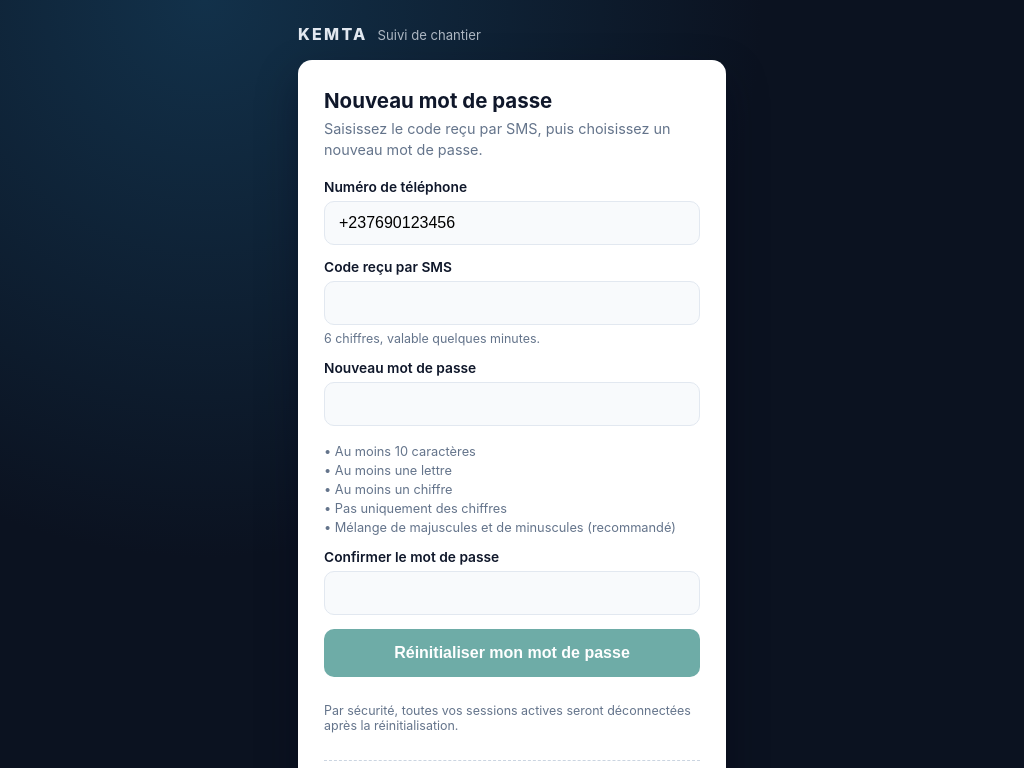
Test case: ResetPasswordPage › envoie le code, le numéro et le nouveau mot de passe au backend
Type "123456" into the field labelled "Code reçu par SMS" at coordinates (512, 303), box x1=324 y1=281 x2=700 y2=325
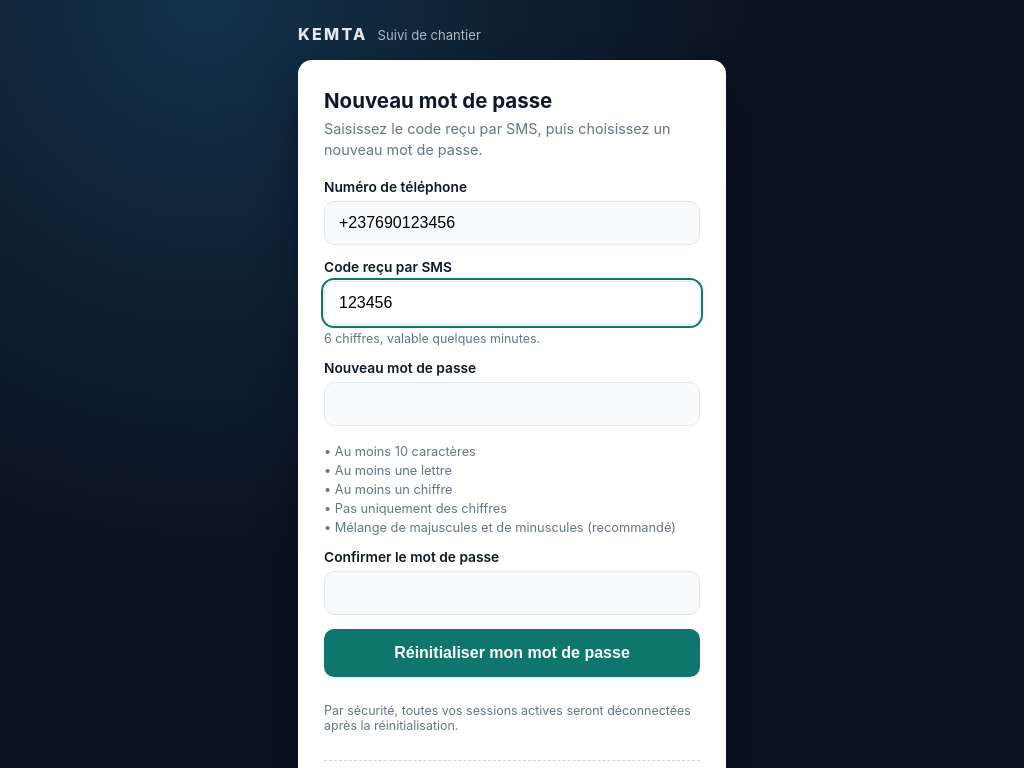
Type "Kemta#2026Douala" into the password field labelled "Nouveau mot de passe" at coordinates (512, 404), box x1=324 y1=382 x2=700 y2=426
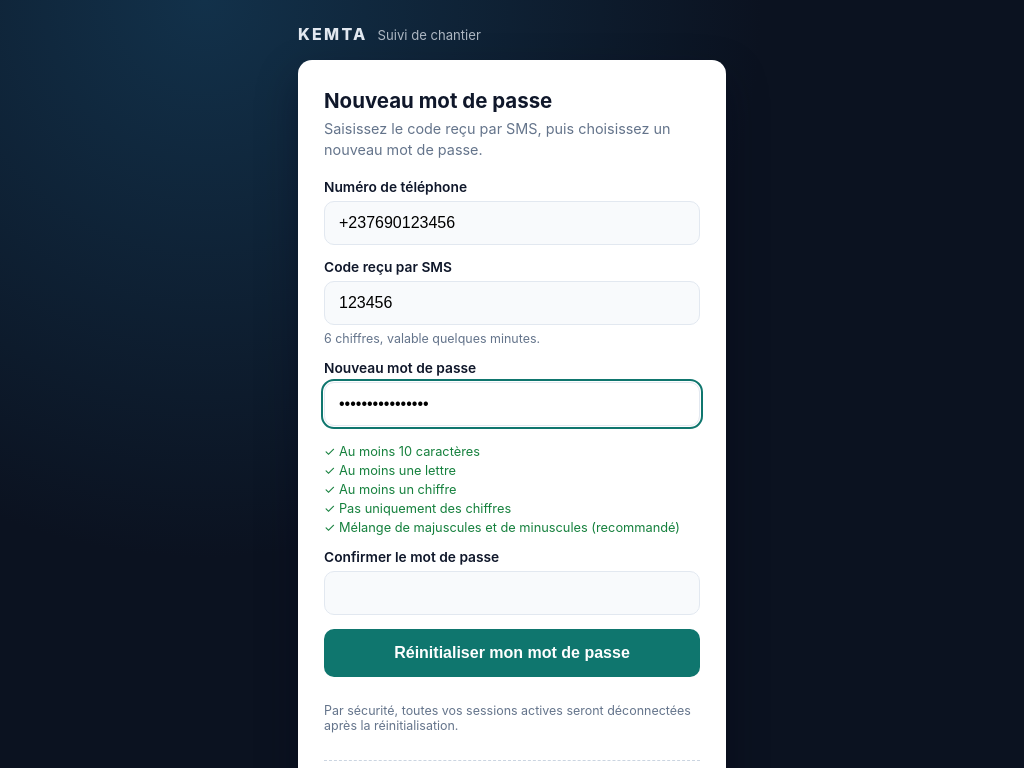
Type "Kemta#2026Douala" into the password field labelled "Confirmer le mot de passe" at coordinates (512, 593), box x1=324 y1=571 x2=700 y2=615
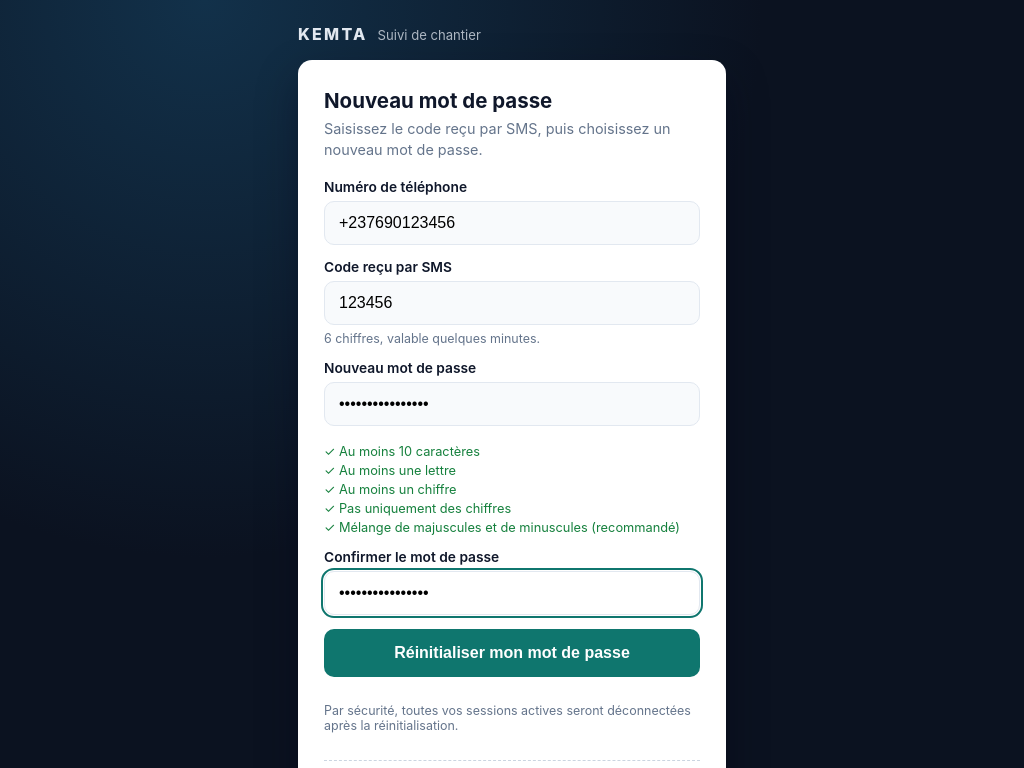
Click the button "Réinitialiser mon mot de passe" at coordinates (512, 653), box x1=324 y1=629 x2=700 y2=677
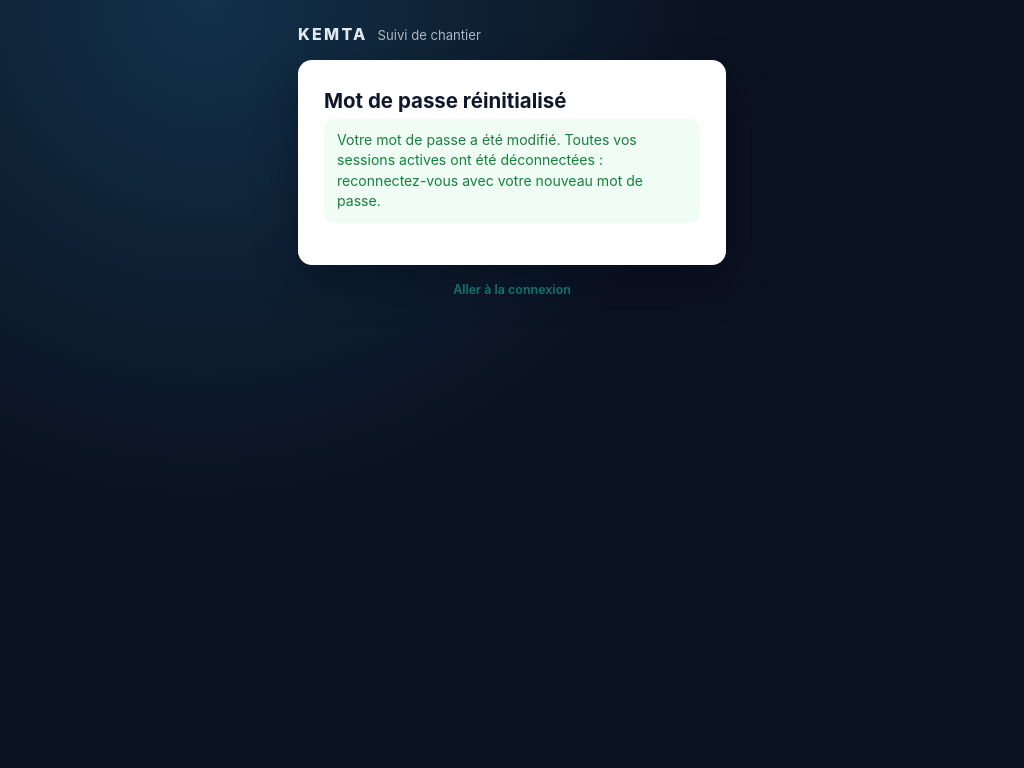
Expected: the text "toutes vos sessions actives ont été déconnectées" is shown, x1=337 y1=131 x2=643 y2=209
